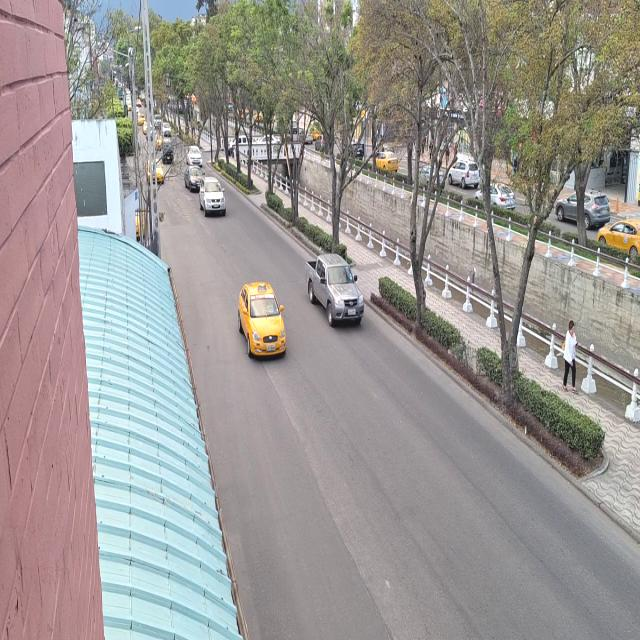CMT: (306, 254, 366, 326)
SED: (236, 284, 285, 362), (185, 144, 204, 166)
SUV: (200, 179, 226, 217)
